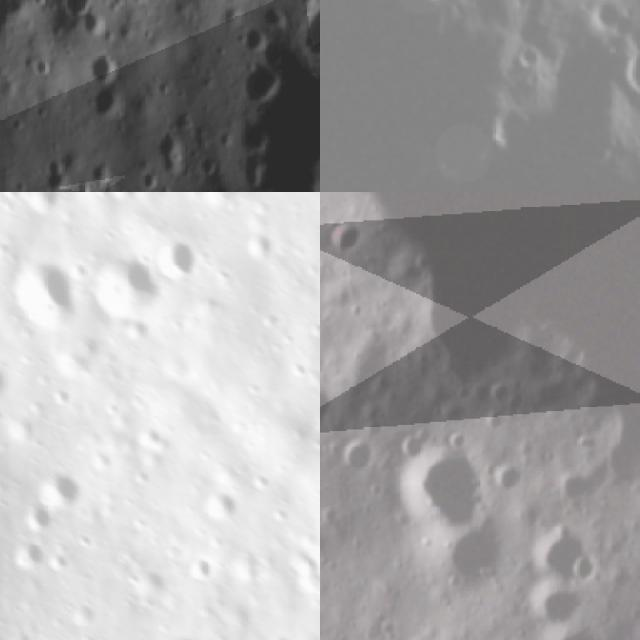crater: (224, 41, 320, 192), (384, 444, 484, 544), (5, 248, 78, 328), (433, 521, 507, 597), (86, 249, 159, 320), (229, 49, 288, 114), (34, 454, 86, 512), (149, 228, 202, 282), (525, 531, 587, 573), (74, 38, 128, 85), (523, 585, 589, 620), (153, 119, 197, 170), (88, 75, 126, 134), (195, 483, 244, 526), (326, 437, 370, 484), (582, 0, 633, 39), (615, 41, 640, 105), (238, 226, 278, 265), (507, 37, 546, 76), (326, 216, 361, 258), (54, 0, 99, 31), (11, 535, 46, 573), (299, 0, 320, 62), (21, 496, 53, 536), (136, 421, 170, 458), (489, 460, 524, 493), (185, 550, 217, 586), (546, 621, 603, 640), (0, 355, 17, 409), (561, 474, 594, 499), (26, 192, 63, 212), (572, 558, 601, 581), (486, 380, 512, 402), (320, 388, 334, 428), (320, 535, 340, 563), (484, 410, 508, 432), (535, 446, 557, 466), (262, 630, 296, 640), (100, 192, 141, 199), (346, 302, 361, 320)
